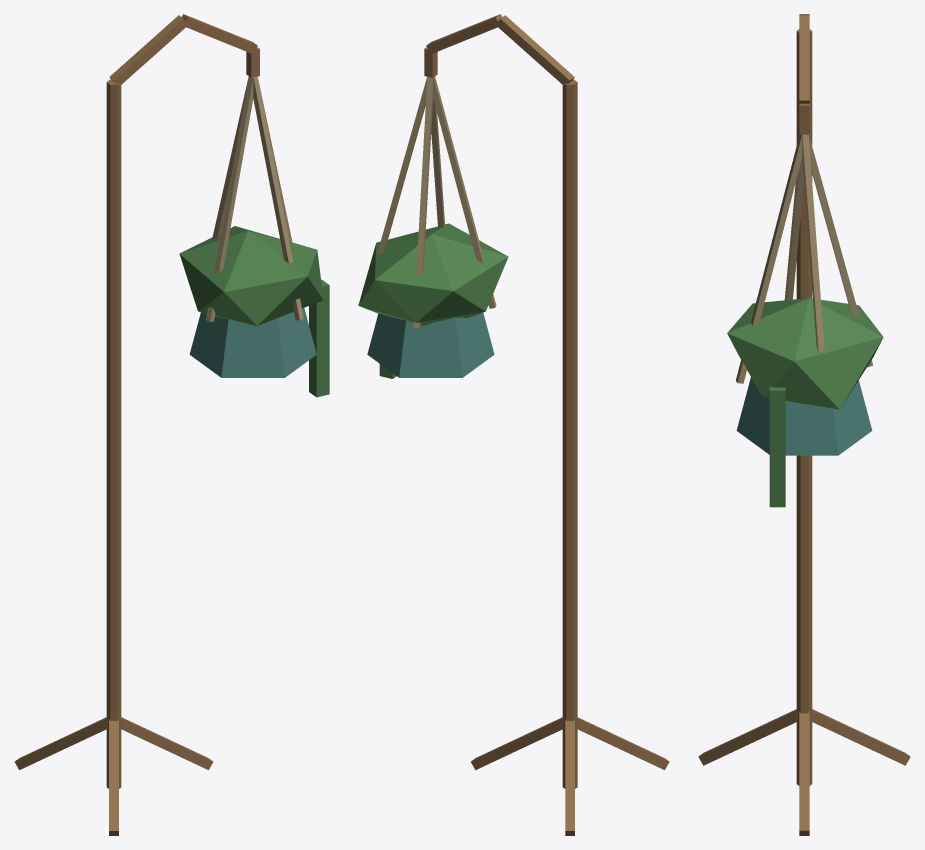
File: plant-hanger-36.glb
The picture shows the model from 3 angles, left to right: view 1: azimuth 30°, elevation 25°; view 2: azimuth 150°, elevation 25°; view 3: azimuth 270°, elevation 25°; orthographic projection. The views are drawn at different scales.
Parts seen in each view (by area): view 1: plant_hanger_36; view 2: plant_hanger_36; view 3: plant_hanger_36.
Part boxes in pixels (x1,y1,x2,y2): plant_hanger_36: (14, 14, 329, 835); plant_hanger_36: (358, 14, 669, 835); plant_hanger_36: (698, 14, 910, 835).
Size of the model in its own units: 0.5846 by 1.68 by 0.4007.
